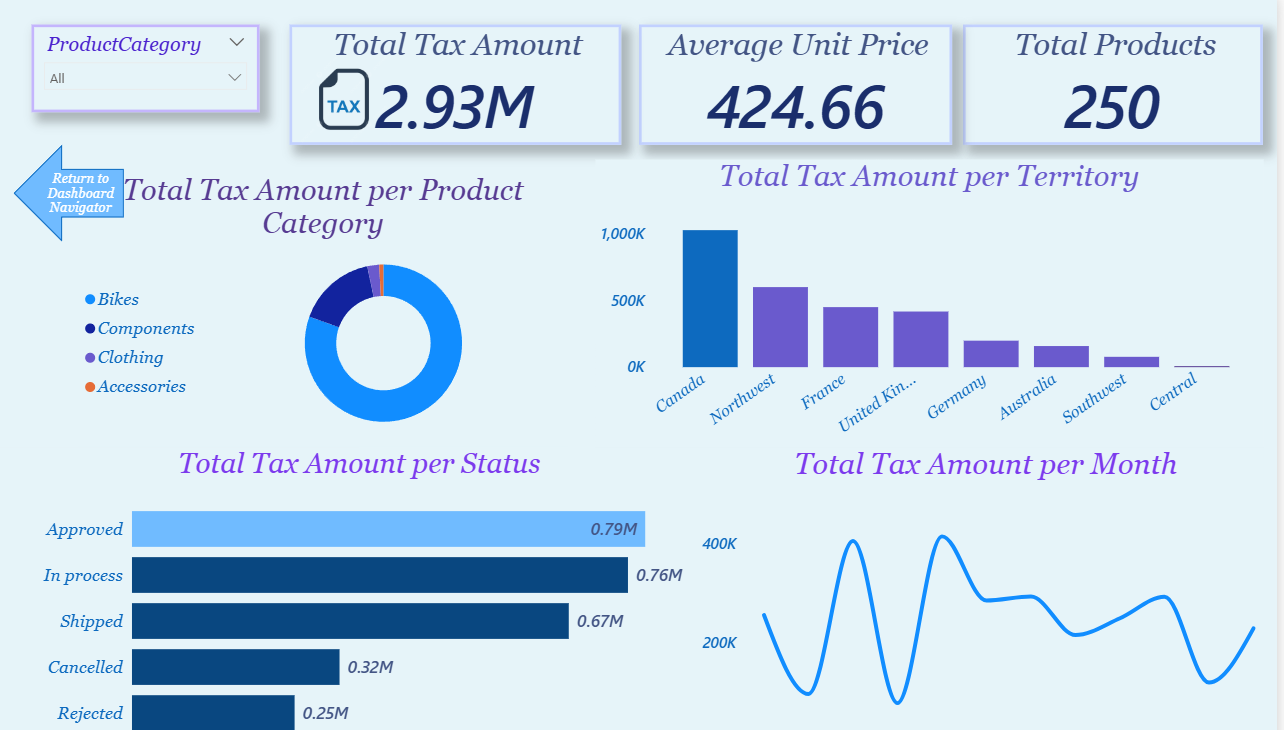

Layout of this report page (visuals, bound fields, positions):
{"tool":"powerbi","page":{"name":"Tax Insights","canvas":[1280,838],"ordinal":2},"visuals":[{"type":"card","title":"Total Products","fields":{"Values":["CountNonNull(Dim Product.ProductID)"]},"box":[965.7,28.3,300.5,120.9],"z":0},{"type":"card","title":"Average Unit Price","fields":{"Values":["Avg(Sales.UnitPrice)"]},"box":[640.6,28.3,313.7,120.9],"z":1000},{"type":"card","title":"Total Tax Amount","fields":{"Values":["Sum(Sales.TaxAmt)"]},"box":[291,28.3,332.6,120.9],"z":2000},{"type":"slicer","fields":{"Values":["Dim Product.ProductCategory"]},"box":[31.9,28.1,228.9,88.2],"z":3000},{"type":"clusteredBarChart","title":"Total Tax Amount per Status","fields":{"Y":["Sum(Sales.TaxAmt)"],"Category":["Dim Status.Status"]},"box":[0,452.1,720.4,384.6],"z":4000},{"type":"lineChart","title":"Total Tax Amount per Month","fields":{"Y":["Sum(Sales.TaxAmt)"],"Category":["Dim Order Date.OrderDate.Variation.Date Hierarchy.Month"]},"box":[697.8,452.1,581.5,384.6],"z":5000},{"type":"columnChart","title":"Total Tax Amount per Territory","fields":{"Category":["Dim Territory.Territory"],"Y":["Sum(Sales.TaxAmt)"]},"box":[596.5,163.2,669.7,288.9],"z":6000},{"type":"donutChart","title":"Total Tax Amount per  Product Category","fields":{"Y":["Sum(Sales.TaxAmt)"],"Category":["Dim Product.ProductCategory"]},"box":[78.8,178.2,491.5,273.9],"z":7000},{"type":"shape","box":[13.1,148.2,110.7,97.5],"z":8000},{"type":"image","box":[290.8,43.1,108.8,120.1],"z":9000}]}

Visuals, with their boxes on the page's 1280x838 design canvas (x1, y1, x2, y2). These are canvas units, not pixel positions in the 1285x730 screenshot, which may show the page scaled, cropped or inside an application window:
"Total Products" card: (966,28,1266,149)
"Average Unit Price" card: (641,28,954,149)
"Total Tax Amount" card: (291,28,624,149)
slicer - Dim Product.ProductCategory: (32,28,261,116)
"Total Tax Amount per Status" clusteredBarChart: (0,452,720,837)
"Total Tax Amount per Month" lineChart: (698,452,1279,837)
"Total Tax Amount per Territory" columnChart: (596,163,1266,452)
"Total Tax Amount per  Product Category" donutChart: (79,178,570,452)
shape: (13,148,124,246)
image: (291,43,400,163)
